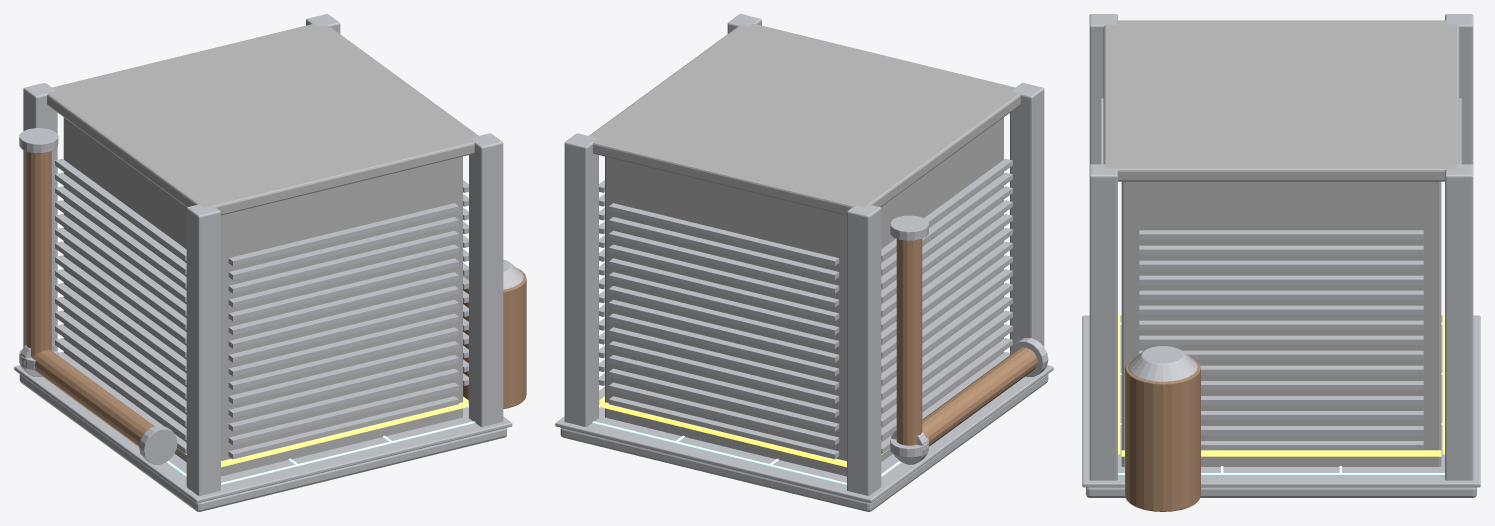
Rendered from mech_3x3_concrete.glb.
3 renders of one model, left to right at view 1: azimuth 30°, elevation 25°; view 2: azimuth 150°, elevation 25°; view 3: azimuth 270°, elevation 25°, orthographic. The views are drawn at different scales.
Parts seen in each view (by area): view 1: int_ceiling, ext_core, ext_louver3, ext_louver2, int_columns, int_slab_edge, ext_bigpipe2, int_slab, ext_bigpipe, ext_tank, ext_mech_glow, ext_bigpipe_fl0 (+3 smaller); view 2: int_ceiling, ext_core, ext_louver1, int_columns, ext_louver2, int_slab_edge, ext_bigpipe2, int_slab, ext_bigpipe, ext_mech_glow, ext_louver0, ext_bigpipe2_fl1 (+2 smaller); view 3: int_ceiling, ext_core, ext_louver0, int_columns, ext_tank, int_slab_edge, int_slab, ext_mech_glow, ext_tank_cap, int_grid.
Boxes of the visible parts, box(x1,y1,x2,y2) form: int_ceiling: box(47, 22, 478, 215); ext_core: box(63, 117, 462, 476); ext_louver3: box(228, 203, 458, 459); ext_louver2: box(55, 158, 186, 453); int_columns: box(23, 14, 503, 495); int_slab_edge: box(14, 365, 512, 503); ext_bigpipe2: box(26, 151, 51, 356); int_slab: box(19, 374, 506, 511); ext_bigpipe: box(31, 350, 154, 446); ext_tank: box(463, 268, 526, 408); ext_mech_glow: box(177, 396, 468, 467); ext_bigpipe_fl0: box(139, 425, 177, 464); int_ceiling: box(589, 23, 1020, 215); ext_core: box(605, 117, 1003, 476); ext_louver1: box(609, 203, 839, 459); int_columns: box(564, 14, 1044, 495); ext_louver2: box(881, 158, 1012, 453); int_slab_edge: box(555, 365, 1053, 503); ext_bigpipe2: box(896, 239, 922, 445); int_slab: box(560, 374, 1048, 511); ext_bigpipe: box(922, 347, 1037, 446); ext_mech_glow: box(599, 396, 888, 467); ext_louver0: box(599, 180, 604, 385); ext_bigpipe2_fl1: box(890, 215, 928, 240); int_ceiling: box(1103, 20, 1459, 181); ext_core: box(1121, 181, 1441, 466); ext_louver0: box(1139, 230, 1423, 450); int_columns: box(1089, 14, 1473, 480); ext_tank: box(1125, 357, 1200, 511); int_slab_edge: box(1082, 315, 1480, 487); int_slab: box(1086, 487, 1476, 497); ext_mech_glow: box(1118, 314, 1444, 456); ext_tank_cap: box(1128, 346, 1197, 381); int_grid: box(1118, 322, 1444, 474).
Size of the model in its own units: 4.1 by 3 by 3.36.
